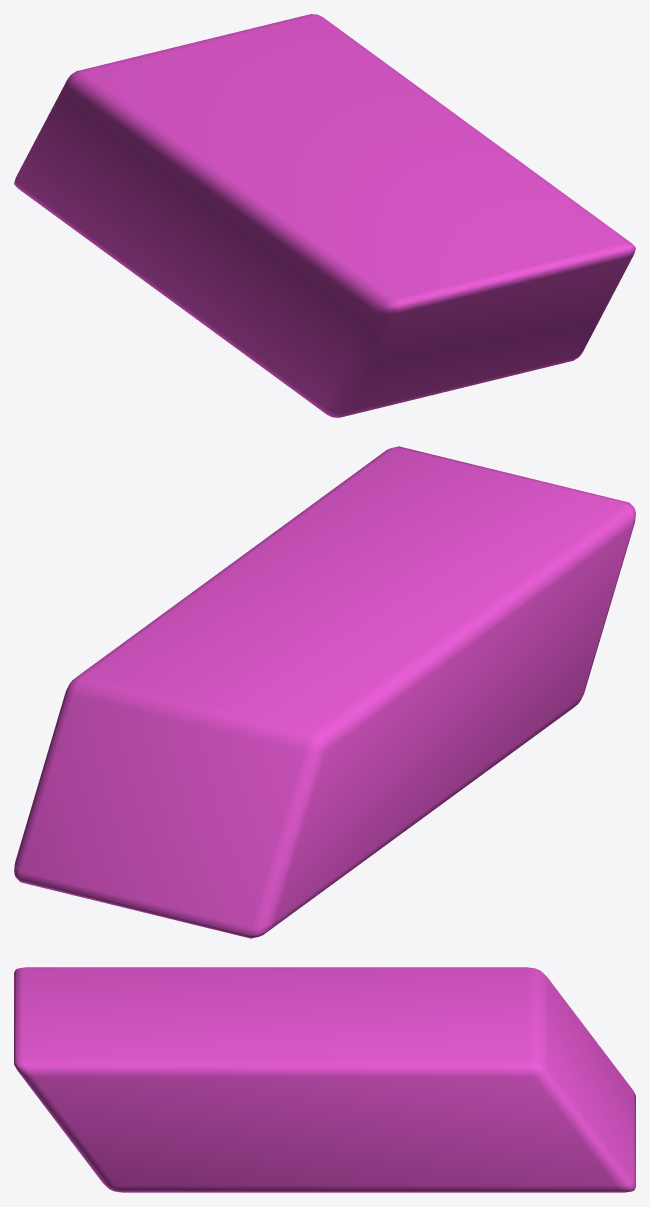
The model's file is eraser.gltf.
3 views of the same model, one above another, from view 1: azimuth 30°, elevation 25°; view 2: azimuth 150°, elevation 25°; view 3: azimuth 270°, elevation 25° (orthographic). The views are drawn at different scales.
Visible parts, largest first — view 1: Cube.007; view 2: Cube.007; view 3: Cube.007.
Part boxes in pixels (x1,y1,x2,y2): Cube.007: (14, 14, 635, 417); Cube.007: (14, 446, 635, 938); Cube.007: (14, 967, 635, 1192).
Bounding box in the file's own units: 2 × 1.2 × 5.12.
